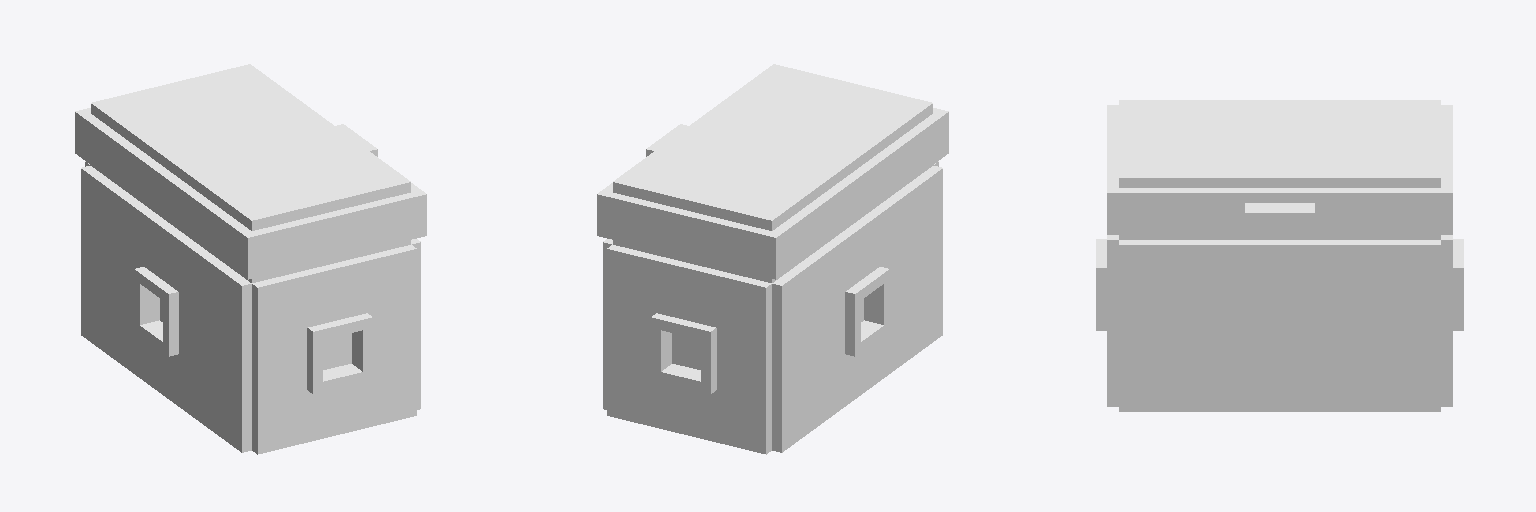
File: CoffreCed-3-Coffre.obj
3 views of the same model, side by side, from view 1: azimuth 30°, elevation 25°; view 2: azimuth 150°, elevation 25°; view 3: azimuth 270°, elevation 25° (orthographic).
Visible parts, largest first — view 1: Coffre; view 2: Coffre; view 3: Coffre.
Boxes of the visible parts, <box> form: Coffre: <box>75,64,426,454</box>; Coffre: <box>597,64,948,454</box>; Coffre: <box>1096,100,1463,411</box>.
Bounding box in the file's own units: 2.1 × 2.2 × 3.2.